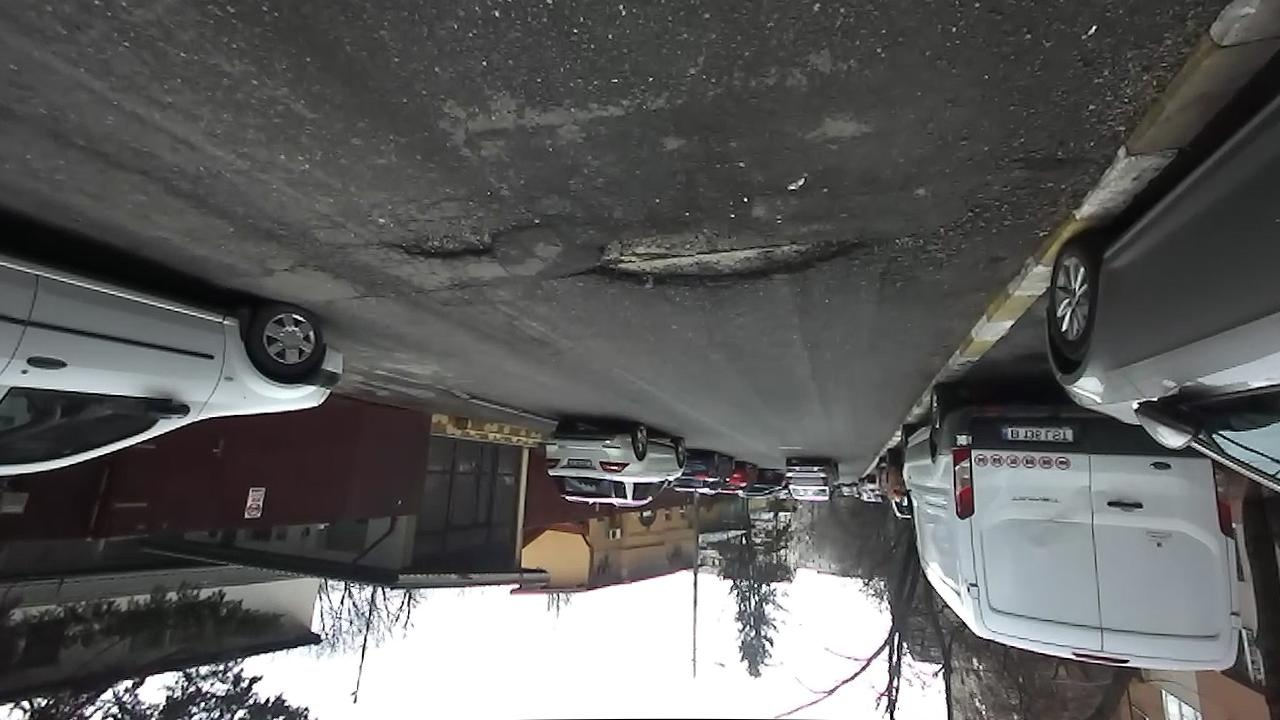pothole: (574, 227, 871, 295), (383, 215, 544, 266)
